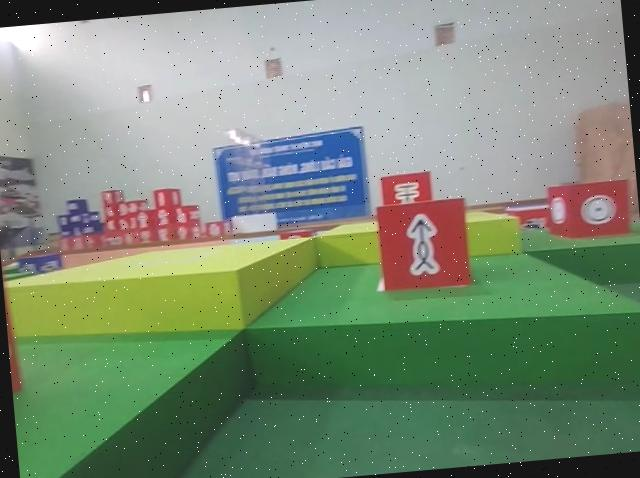R2 Real: (372, 195, 473, 295), (545, 182, 635, 243)
